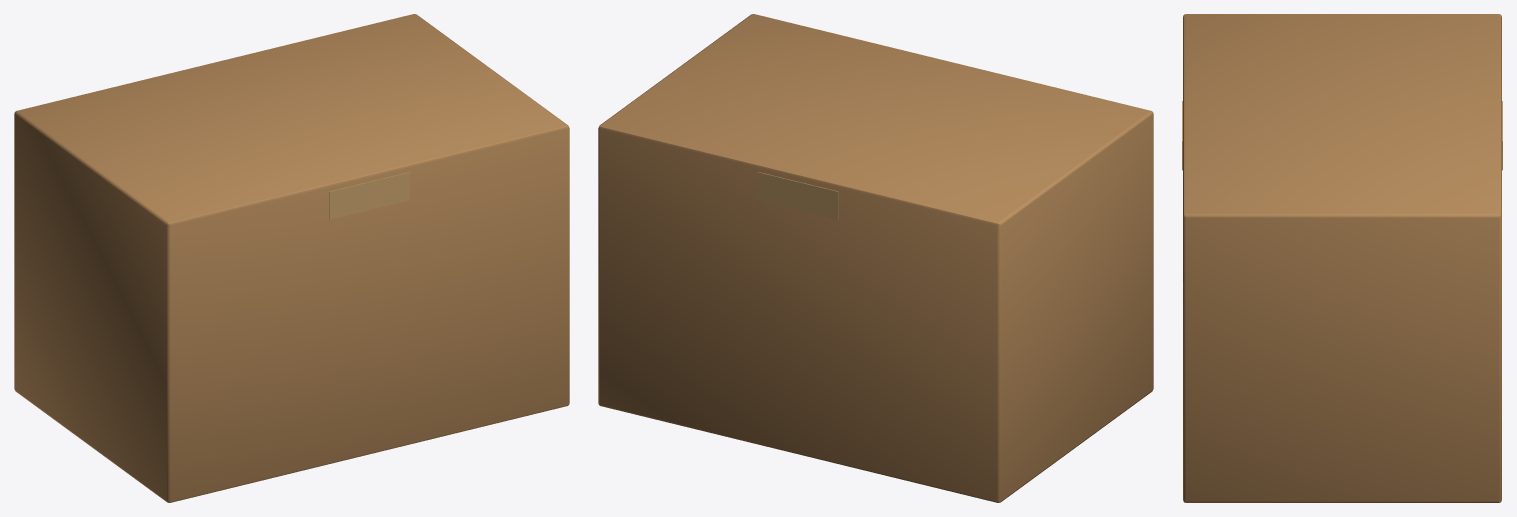
The picture shows the model from 3 angles, left to right: view 1: azimuth 30°, elevation 25°; view 2: azimuth 150°, elevation 25°; view 3: azimuth 270°, elevation 25°; orthographic projection. The views are drawn at different scales.
Parts seen in each view (by area): view 1: box_b; view 2: box_b; view 3: box_b.
Part boxes in pixels (<box>): box_b: <box>14,14,569,502</box>; box_b: <box>598,14,1153,502</box>; box_b: <box>1182,14,1502,502</box>.
Bounding box in the file's own units: 0.6 × 0.4 × 0.402.
